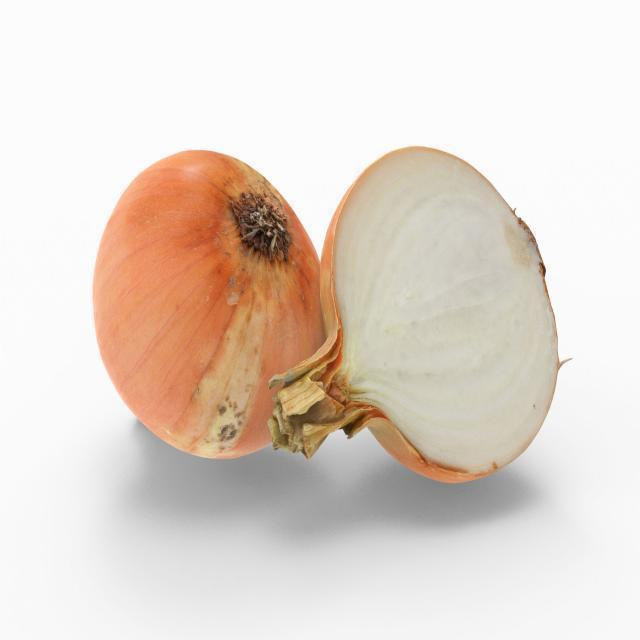Onion: (269, 144, 569, 479), (94, 145, 324, 460)
